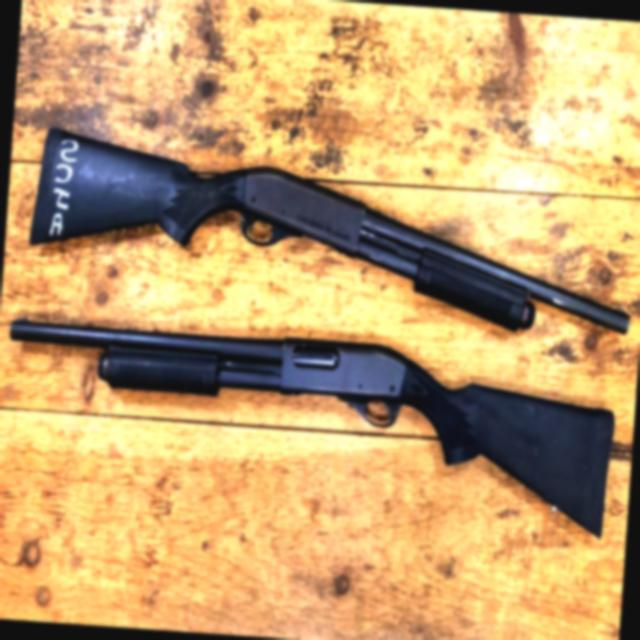shotgun: (0, 305, 634, 562), (16, 115, 639, 343)
